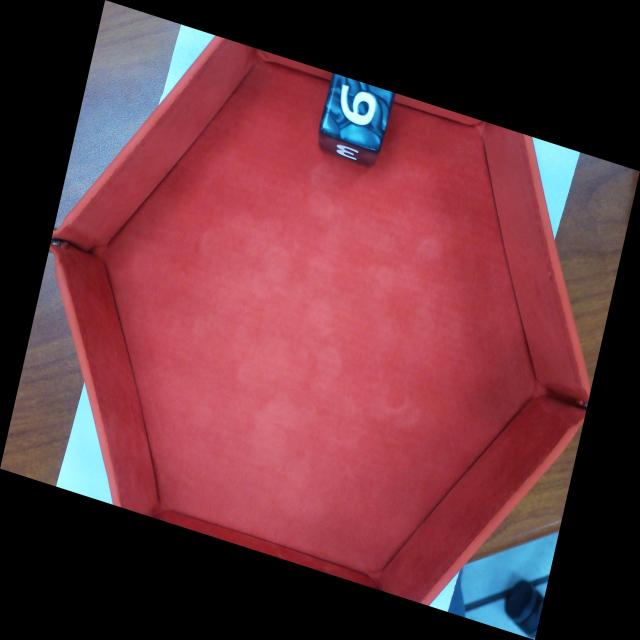dice: (321, 72, 396, 154)
